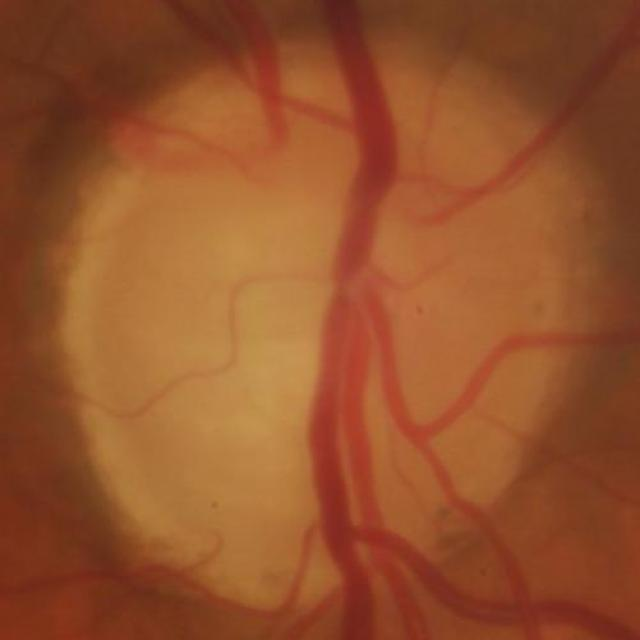OC: (160, 183, 417, 450)
OD: (60, 36, 580, 640)
